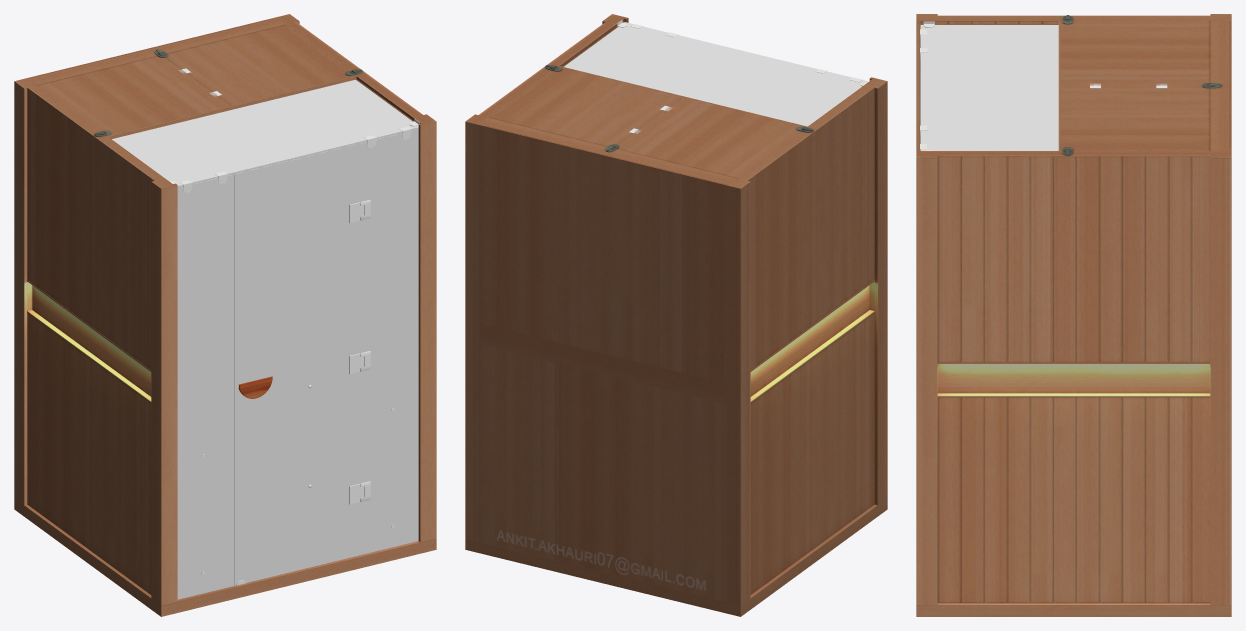
The model's file is sauna_product_model.glb.
3 views of the same model, side by side, from view 1: azimuth 30°, elevation 25°; view 2: azimuth 150°, elevation 25°; view 3: azimuth 270°, elevation 25° (orthographic). The views are drawn at different scales.
Parts seen in each view (by area): view 1: Glass, Base, Metal, Stand; view 2: Base, Glass, Stand, Metal; view 3: Base, Glass, Stand, Metal.
Part boxes in pixels (x1,y1,x2,y2): Glass: (112,79,418,599); Base: (14,14,436,616); Metal: (94,49,419,585); Stand: (27,76,356,402); Base: (465,14,887,616); Glass: (564,22,868,126); Stand: (559,66,874,402); Metal: (545,20,870,152); Base: (916,14,1231,616); Glass: (920,25,1058,150); Stand: (937,21,1210,397); Metal: (920,15,1222,155).
Bounding box in the file's own units: 1.64 × 2.44 × 1.51.
2 materials, 2 textured.
